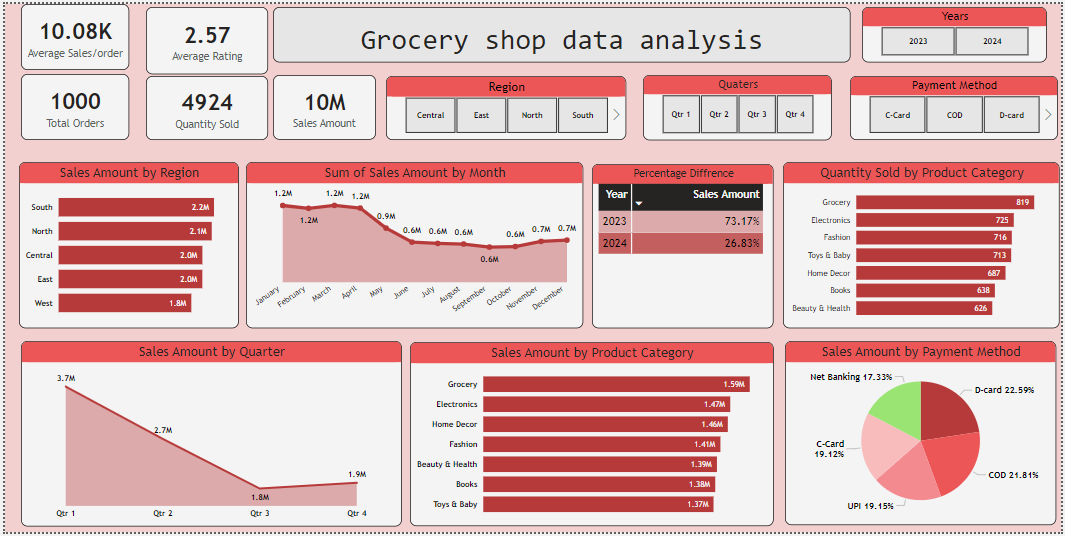

What the dashboard file says about the page in this screenshot:
{"tool":"powerbi","page":{"name":"Page 1","canvas":[1600,800],"ordinal":0},"visuals":[{"type":"card","fields":{"Values":["Avg(Order ID (Sheet1).Customer Rating)"]},"box":[213.1,4.9,185.2,101.6],"z":0},{"type":"card","fields":{"Values":["Order ID (Sheet1).Measure"]},"box":[24.6,106.6,163.9,100],"z":1000},{"type":"barChart","title":"Sales Amount by Region","fields":{"Category":["Order ID (Sheet1).Region"],"Y":["Sum(Order ID (Sheet1).Sales Amount)"]},"box":[21.9,239.7,332.9,252.1],"z":2000},{"type":"barChart","title":"Sales Amount by Product Category","fields":{"Category":["Order ID (Sheet1).Product Category"],"Y":["Sum(Order ID (Sheet1).Sales Amount)"]},"box":[613.7,512.3,550.7,279.5],"z":3000},{"type":"card","fields":{"Values":["Sum(Order ID (Sheet1).Sales Amount)"]},"box":[406.6,108.2,155.7,98.4],"z":4000},{"type":"barChart","title":"Quantity Sold by Product Category","fields":{"Category":["Order ID (Sheet1).Product Category"],"Y":["Sum(Order ID (Sheet1).Quantity Sold)"]},"box":[1178.1,239.7,419.2,252.1],"z":5000},{"type":"pieChart","title":"Sales Amount by Payment Method","fields":{"Category":["Order ID (Sheet1).Payment Method"],"Y":["Sum(Order ID (Sheet1).Sales Amount)"]},"box":[1182.2,511,411,279.5],"z":6000},{"type":"lineChart","fields":{"Y":["Sum(Order ID (Sheet1).Sales Amount)"],"Category":["Order ID (Sheet1).Order Date.Variation.Date Hierarchy.Month"]},"box":[365.8,239.7,511,252.1],"z":7000},{"type":"areaChart","title":"Sales Amount by Quarter","fields":{"Category":["Order ID (Sheet1).Order Date.Variation.Date Hierarchy.Quarter"],"Y":["Sum(Order ID (Sheet1).Sales Amount)"]},"box":[24.7,511,576.7,280.8],"z":8000},{"type":"card","fields":{"Values":["Sum(Order ID (Sheet1).Quantity Sold)"]},"box":[213.1,109.8,185.2,96.7],"z":9000},{"type":"card","fields":{"Values":["Avg(Order ID (Sheet1).Sales Amount)"]},"box":[24.6,0,163.9,100],"z":10000},{"type":"slicer","title":"Years","fields":{"Values":["Order ID (Sheet1).Order Date.Variation.Date Hierarchy.Year"]},"box":[1298.4,4.9,280.3,83.6],"z":11000},{"type":"slicer","title":"Quaters","fields":{"Values":["Order ID (Sheet1).Order Date.Variation.Date Hierarchy.Quarter"]},"box":[967.1,108.2,286.3,98.6],"z":12000},{"type":"slicer","title":"Region","fields":{"Values":["Order ID (Sheet1).Region"]},"box":[577,109.8,363.9,96.7],"z":13000},{"type":"slicer","title":"Payment Method","fields":{"Values":["Order ID (Sheet1).Payment Method"]},"box":[1280.8,109.6,315.1,97.3],"z":14000},{"type":"tableEx","title":"Percentage Diffrence","fields":{"Values":["Order ID (Sheet1).Order Date.Variation.Date Hierarchy.Year","Sum(Order ID (Sheet1).Sales Amount)"]},"box":[889,242.5,275.3,249.3],"z":15000},{"type":"textbox","box":[406.6,4.9,875.4,83.6],"z":16000}]}

Visuals, with their boxes in screenshot pixels (x1, y1, x2, y2), scaled from the page's 1600x800 canvas onto the 1065x536 screenshot:
card - Avg(Order ID (Sheet1).Customer Rating): select_region(142, 3, 265, 71)
card - Order ID (Sheet1).Measure: select_region(16, 71, 125, 138)
"Sales Amount by Region" barChart: select_region(15, 161, 236, 330)
"Sales Amount by Product Category" barChart: select_region(408, 343, 775, 531)
card - Sum(Order ID (Sheet1).Sales Amount): select_region(271, 72, 374, 138)
"Quantity Sold by Product Category" barChart: select_region(784, 161, 1063, 330)
"Sales Amount by Payment Method" pieChart: select_region(787, 342, 1060, 530)
lineChart - Sum(Order ID (Sheet1).Sales Amount) x Order ID (Sheet1).Order Date.Variation.Date Hierarchy.Month: select_region(243, 161, 584, 330)
"Sales Amount by Quarter" areaChart: select_region(16, 342, 400, 531)
card - Sum(Order ID (Sheet1).Quantity Sold): select_region(142, 74, 265, 138)
card - Avg(Order ID (Sheet1).Sales Amount): select_region(16, 0, 125, 67)
"Years" slicer: select_region(864, 3, 1051, 59)
"Quaters" slicer: select_region(644, 72, 834, 139)
"Region" slicer: select_region(384, 74, 626, 138)
"Payment Method" slicer: select_region(853, 73, 1062, 139)
"Percentage Diffrence" tableEx: select_region(592, 162, 775, 330)
textbox: select_region(271, 3, 853, 59)
